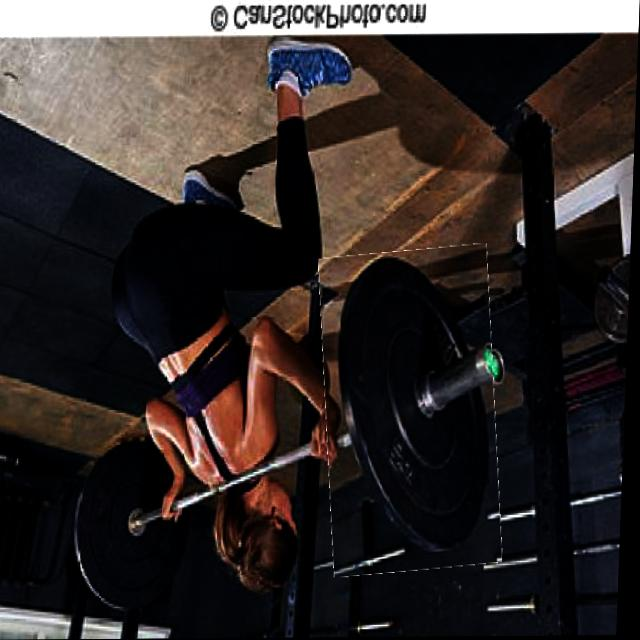barbell: (320, 248, 510, 575)
